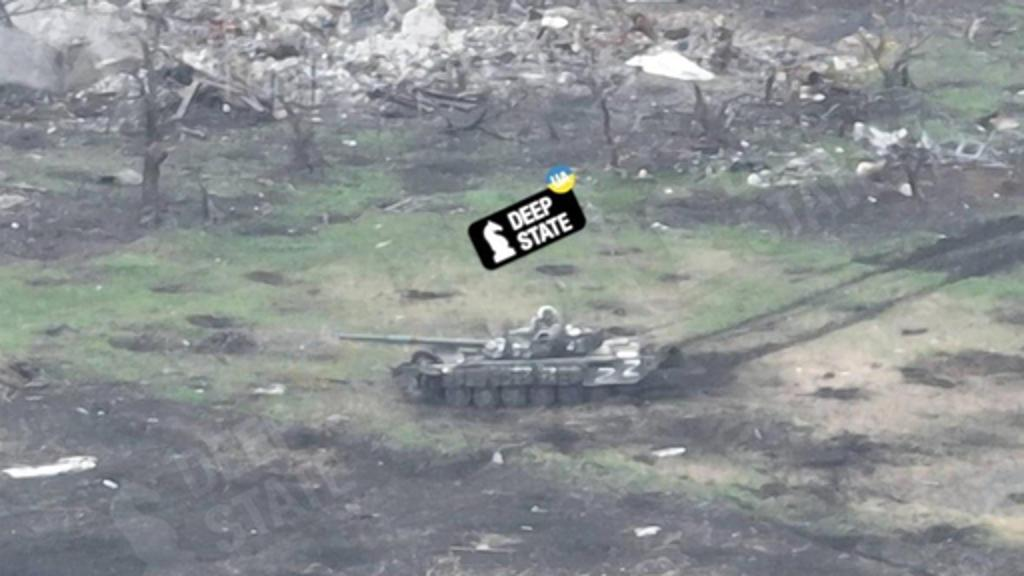TANK: (336, 298, 662, 408)
